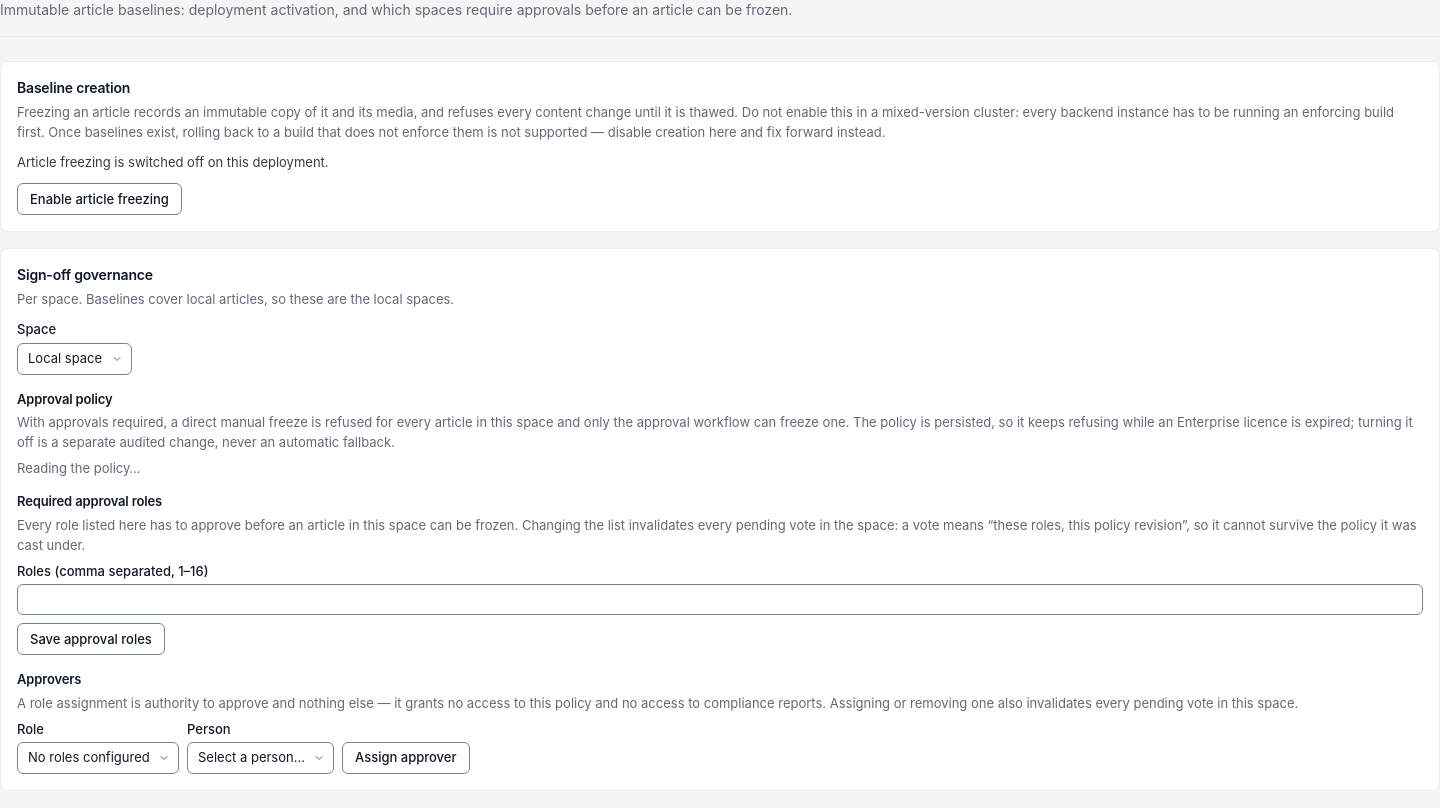
Test: article baselines admin panel › enables creation with an explicit flag and re-reads the server state
Expected: the text "Article freezing is switched off on this deployment." is shown, top-left (17, 154), bottom-right (329, 170)
Click the button with test id "activation-toggle".
click(99, 199)  # box top-left (17, 183), bottom-right (182, 215)
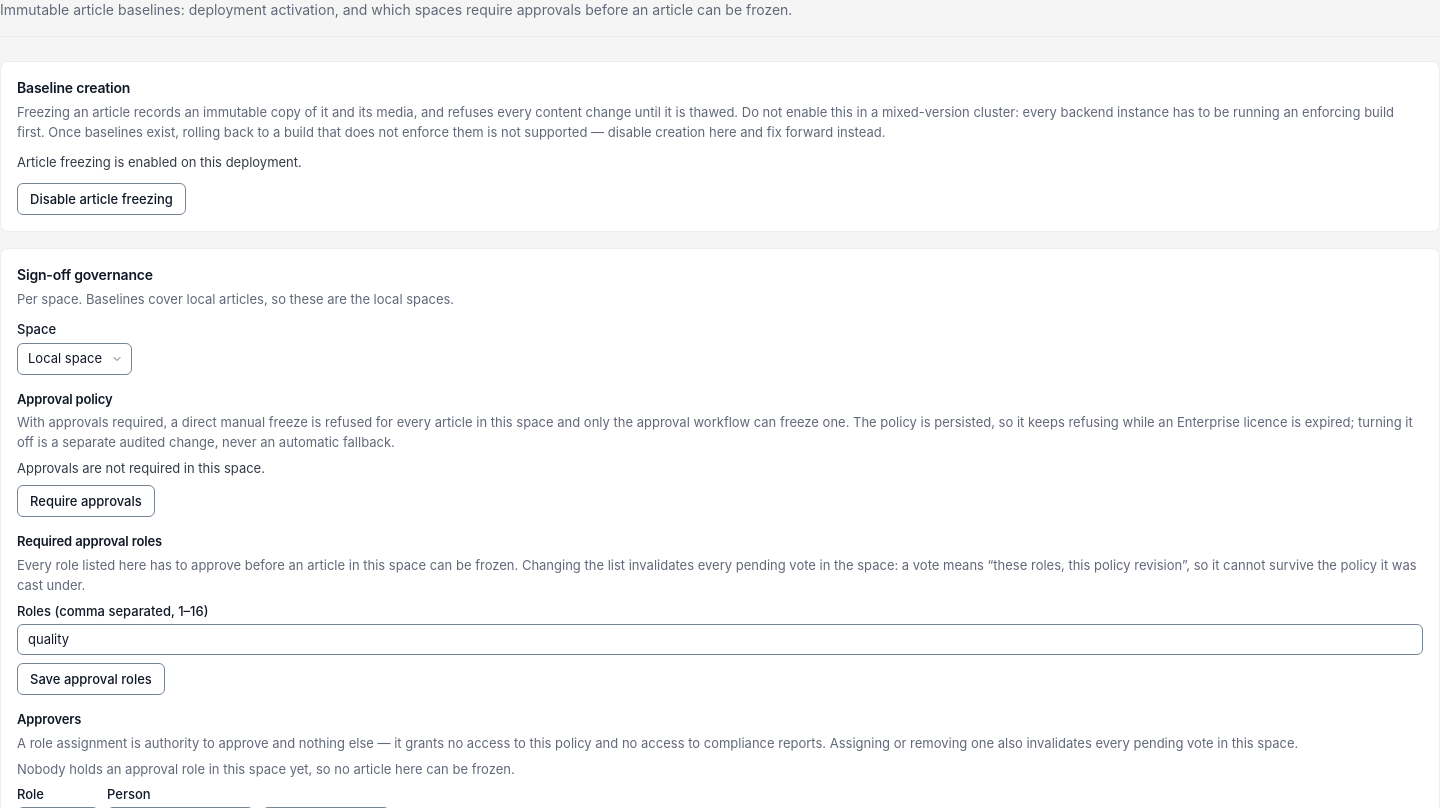
Result: the text with test id "activation-state" shows "is enabled" at top-left (17, 154), bottom-right (302, 170)
